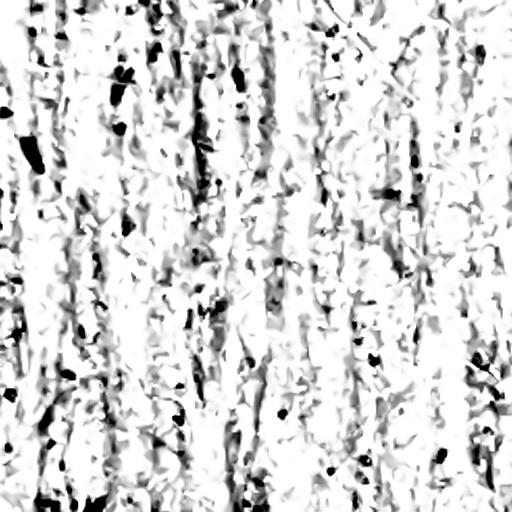egg: (110, 66, 133, 105), (20, 136, 44, 173), (231, 66, 245, 91), (83, 497, 104, 511), (37, 501, 59, 511), (436, 448, 447, 463), (62, 369, 75, 380), (0, 106, 12, 117), (411, 155, 418, 167), (56, 31, 66, 39)
